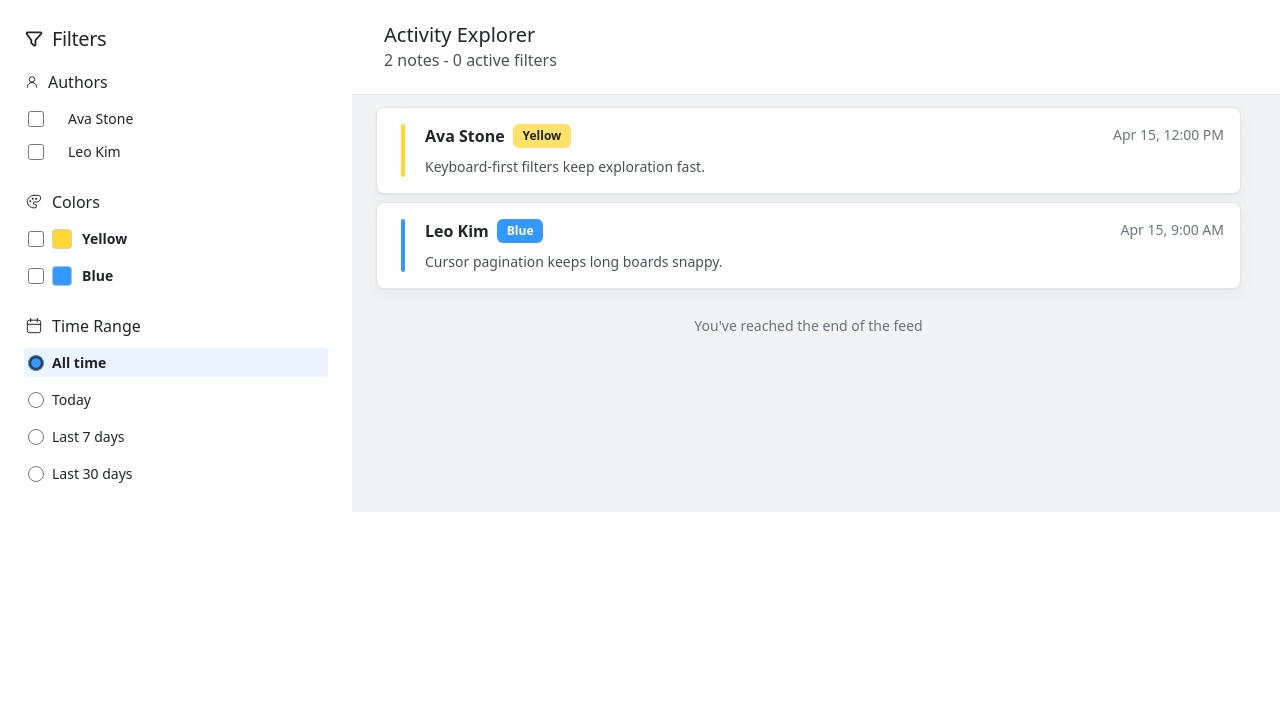
Test case: ActivityExplorerPage › renders empty state for filtered results and clears filters back to feed
Expected: the button with aria-label "note from leo kim" is shown, [376,202,1241,289]
Click the checkbox labelled "Leo Kim" at [36, 152], box [28,144,44,160]
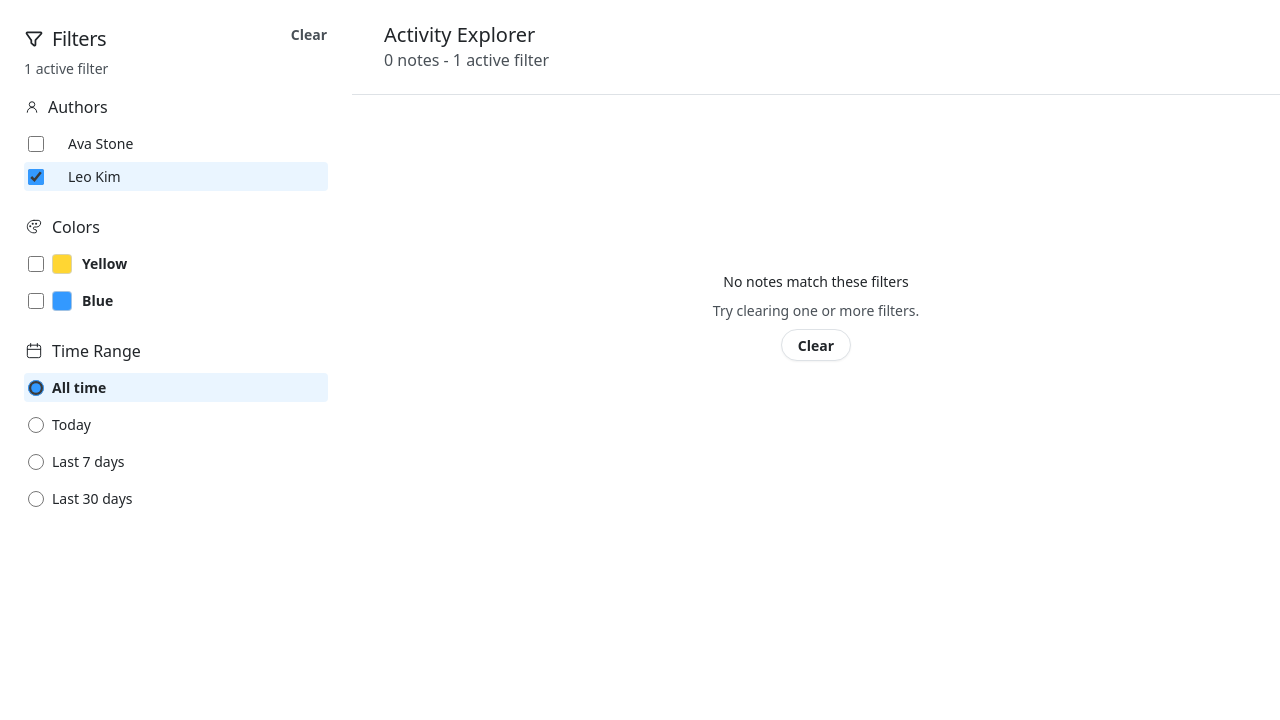
Expected: the heading "No notes match these filters" is shown, [723,271,909,292]
Click the button "Clear" below "Try clearing one or more filters." at [816, 345], box [781,329,851,361]
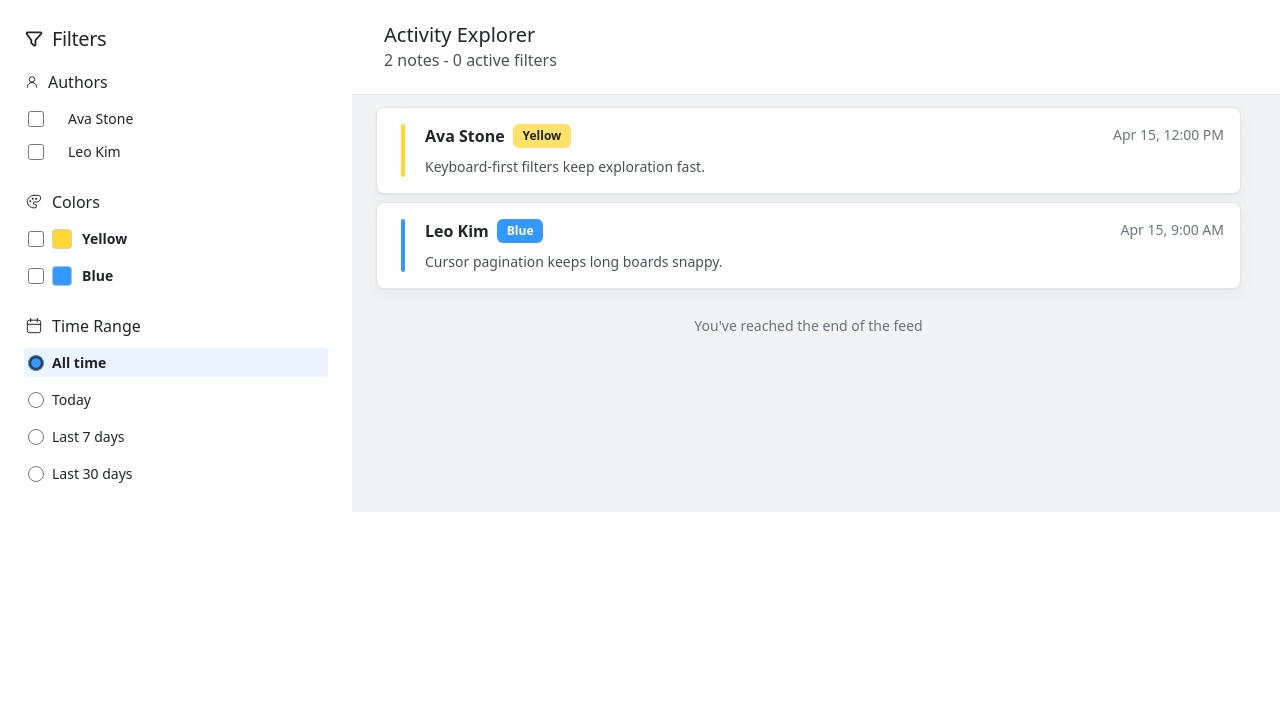
Expected: the button with aria-label "note from leo kim" is shown, [376,202,1241,289]
